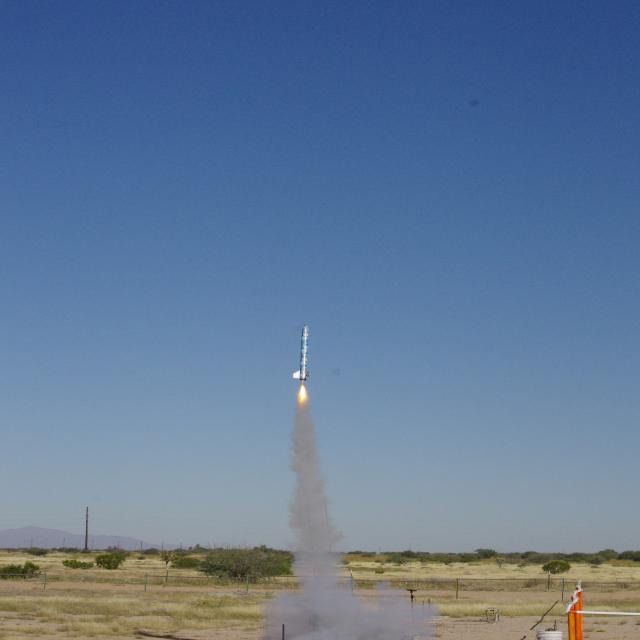Rocket: (293, 325, 311, 381)
